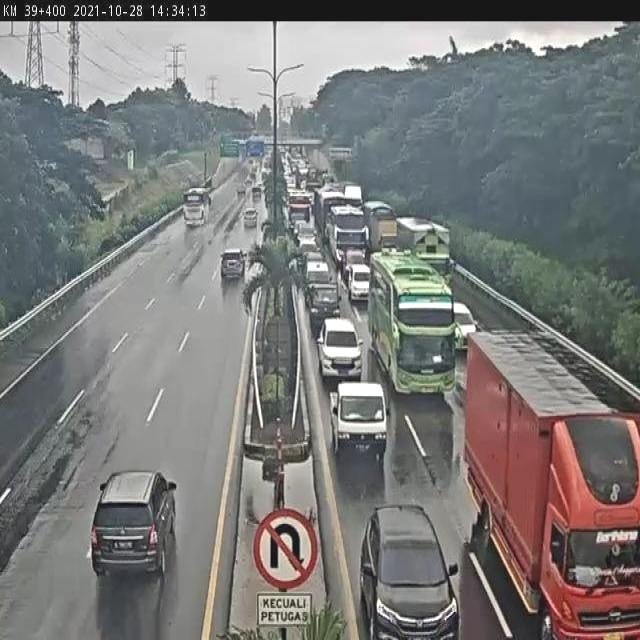Bus: (366, 240, 464, 406)
Car: (360, 492, 450, 640), (90, 469, 177, 578), (314, 315, 362, 382), (308, 267, 341, 324), (451, 301, 478, 349), (212, 251, 243, 290), (301, 249, 328, 281), (294, 223, 317, 252), (266, 148, 284, 176), (243, 208, 258, 228), (284, 178, 296, 197), (292, 146, 304, 159), (284, 145, 292, 159), (244, 175, 252, 188)
Truck: (462, 331, 637, 636), (396, 218, 451, 278), (325, 205, 367, 266), (362, 200, 397, 256), (178, 187, 214, 234), (344, 184, 364, 211), (306, 169, 324, 192)
Van: (330, 380, 388, 464)
